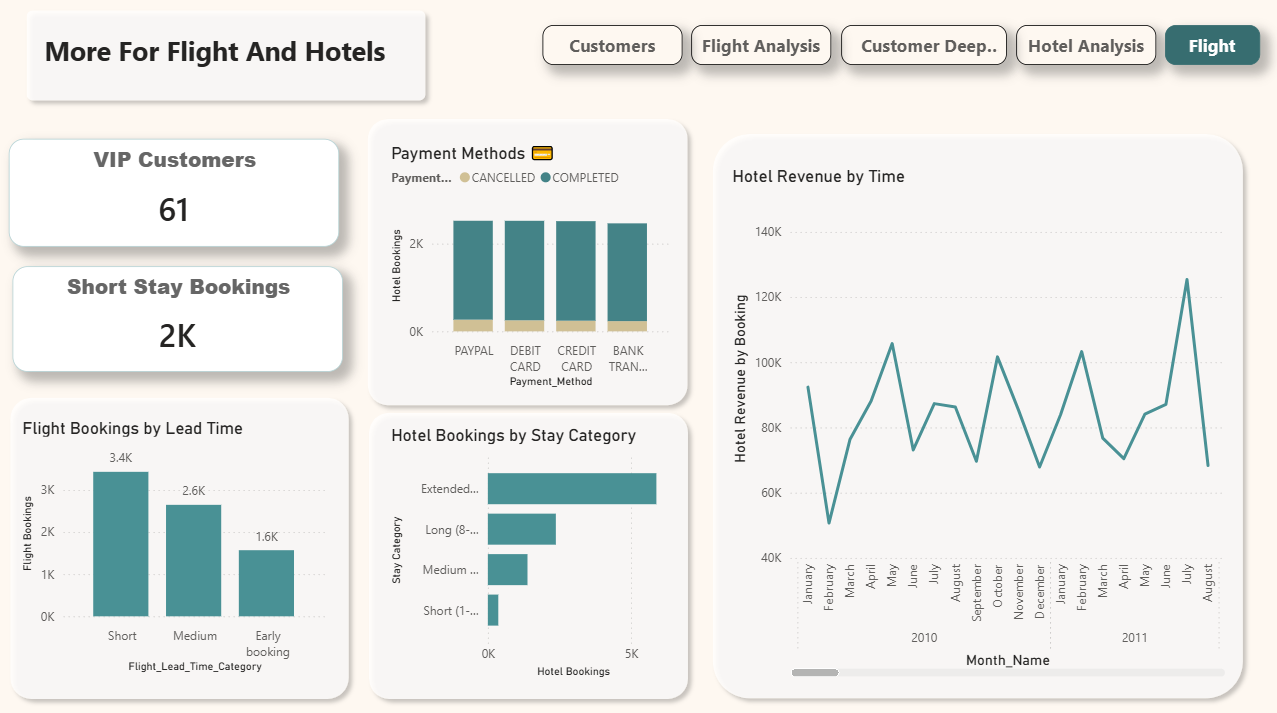

What the dashboard file says about the page in this screenshot:
{"tool":"powerbi","page":{"name":"Flight","canvas":[1280,720],"ordinal":4},"visuals":[{"type":"shape","box":[704.3,125.2,548.1,582.3],"z":0},{"type":"shape","box":[360,403.4,336.9,304.1],"z":1000},{"type":"shape","box":[358.2,110,337.8,304.1],"z":3000},{"type":"shape","box":[1.8,388.4,356.5,319.2],"z":4000},{"type":"shape","box":[17.3,1.4,417,108.2],"z":5000},{"type":"textbox","box":[16.5,27.2,396.8,54.5],"z":6000},{"type":"cardVisual","title":"VIP Customers","fields":{"Data":["_Measures.VIP Customers"]},"box":[8.9,139.2,330.7,108.2],"z":7000},{"type":"columnChart","title":"Flight Bookings by Lead Time","fields":{"Category":["Fact_Flight_Booking.Flight_Lead_Time_Category"],"Y":["_Measures.Flight Bookings"]},"box":[17.7,417.6,313.9,259.8],"z":8000},{"type":"lineChart","title":"Hotel Revenue by Time","fields":{"Category":["dim_date.Year","dim_date.Month_Name"],"Y":["_Measures.Hotel Revenue by Booking"]},"box":[727.1,165.9,502.6,515.6],"z":9000},{"type":"columnChart","title":" Payment Methods 💳","fields":{"Category":["Fact_Hotel_Booking.Payment_Method"],"Series":["Fact_Hotel_Booking.Payment_Status"],"Y":["_Measures.Hotel Bookings"]},"box":[386.6,139.2,288.2,253.6],"z":10000},{"type":"clusteredBarChart","fields":{"Category":["Fact_Hotel_Booking.Stay Category"],"Y":["_Measures.Hotel Bookings"]},"box":[386.6,424.7,285.5,257.1],"z":11000},{"type":"cardVisual","title":"Short Stay Bookings","fields":{"Data":["_Measures.Short Stay Bookings"]},"box":[12.4,266,330.7,105.5],"z":12000},{"type":"actionButton","title":"Customers","box":[542.6,25.4,140.1,39.9],"z":14000},{"type":"actionButton","title":"Flight Analysis","box":[690.7,25.4,140.1,39.9],"z":15000},{"type":"actionButton","title":"Customer deep dive","box":[841.4,25.4,165.8,39.9],"z":16000},{"type":"actionButton","title":"Hotel Analysis","box":[1016.1,25.4,140.1,39.9],"z":17000},{"type":"actionButton","title":"Flight ","box":[1165.1,25.4,94.9,39.9],"z":18000}]}

Visuals, with their boxes in screenshot pixels (x1, y1, x2, y2), scaled from the page's 1280x720 canvas onto the 1277x713 screenshot:
shape: <region>703, 124, 1249, 701</region>
shape: <region>359, 399, 695, 701</region>
shape: <region>357, 109, 694, 410</region>
shape: <region>2, 385, 357, 701</region>
shape: <region>17, 1, 433, 109</region>
textbox: <region>16, 27, 412, 81</region>
"VIP Customers" cardVisual: <region>9, 138, 339, 245</region>
"Flight Bookings by Lead Time" columnChart: <region>18, 414, 331, 671</region>
"Hotel Revenue by Time" lineChart: <region>725, 164, 1227, 675</region>
" Payment Methods 💳" columnChart: <region>386, 138, 673, 389</region>
clusteredBarChart - Fact_Hotel_Booking.Stay Category x _Measures.Hotel Bookings: <region>386, 421, 671, 675</region>
"Short Stay Bookings" cardVisual: <region>12, 263, 342, 368</region>
"Customers" actionButton: <region>541, 25, 681, 65</region>
"Flight Analysis" actionButton: <region>689, 25, 829, 65</region>
"Customer deep dive" actionButton: <region>839, 25, 1005, 65</region>
"Hotel Analysis" actionButton: <region>1014, 25, 1153, 65</region>
"Flight " actionButton: <region>1162, 25, 1257, 65</region>
